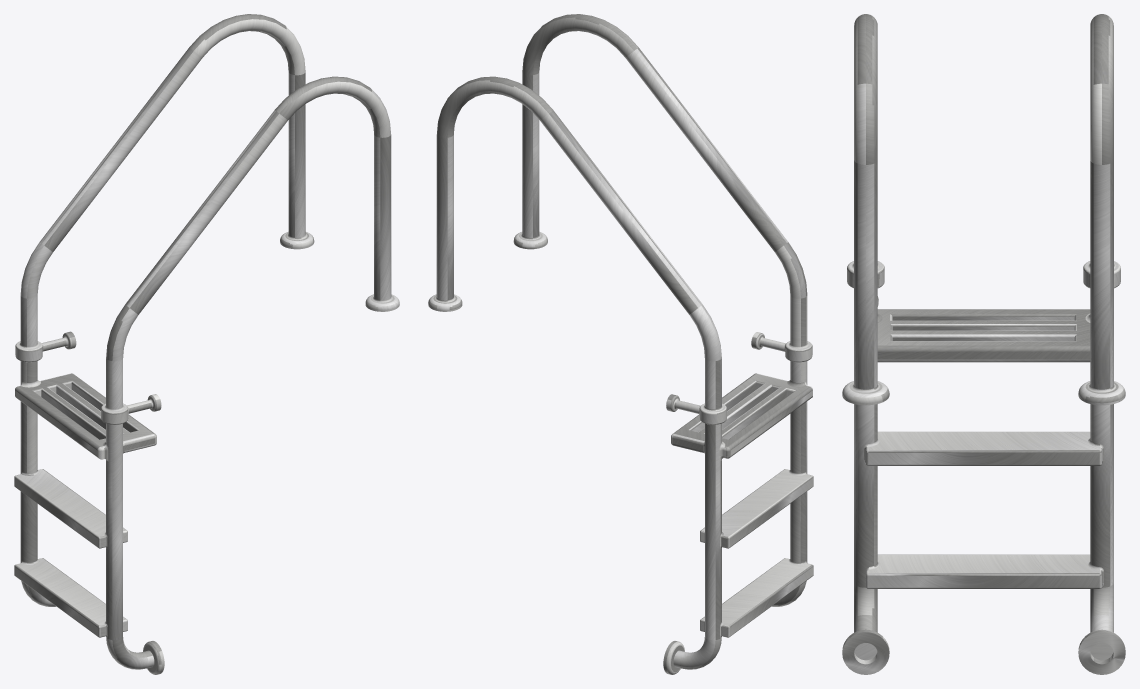
File: ladder.glb
3 renders of one model, left to right at view 1: azimuth 30°, elevation 25°; view 2: azimuth 150°, elevation 25°; view 3: azimuth 270°, elevation 25°, orthographic. The views are drawn at different scales.
Parts seen in each view (by area): view 1: 3DXY_geometry_002; view 2: 3DXY_geometry_002; view 3: 3DXY_geometry_002.
Boxes of the visible parts, <box> form: 3DXY_geometry_002: <box>14,14,399,674</box>; 3DXY_geometry_002: <box>428,14,813,674</box>; 3DXY_geometry_002: <box>842,14,1125,674</box>.
Bounding box in the file's own units: 1.01 × 1.79 × 0.6.
1 material, 1 textured.
